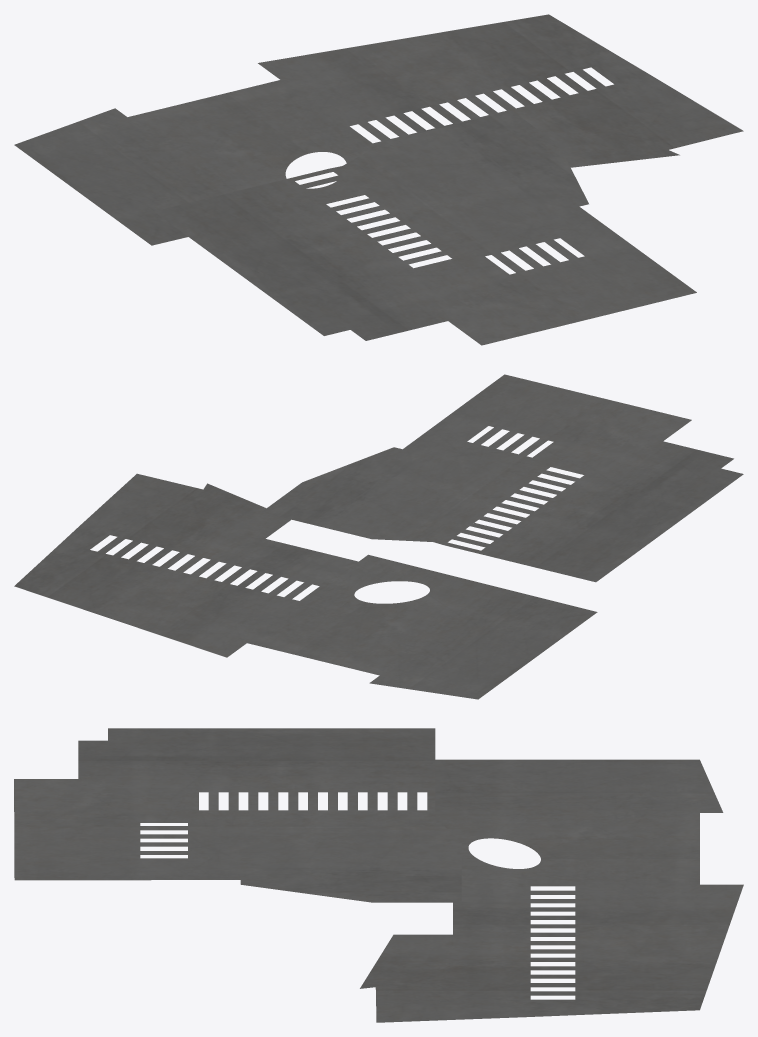
The model's file is SM_Roof.fbx.
The picture shows the model from 3 angles, top to bottom: view 1: azimuth 30°, elevation 25°; view 2: azimuth 150°, elevation 25°; view 3: azimuth 270°, elevation 25°; orthographic projection. The views are drawn at different scales.
Parts seen in each view (by area): view 1: SM_Roof_LOD0; view 2: SM_Roof_LOD0; view 3: SM_Roof_LOD0.
Part boxes in pixels (left/top/right/bottom): SM_Roof_LOD0: left=14, top=14, right=743, bottom=345; SM_Roof_LOD0: left=14, top=374, right=743, bottom=699; SM_Roof_LOD0: left=14, top=728, right=743, bottom=1022.
Bounding box in the file's own units: 10447 × 12247 × 600.
